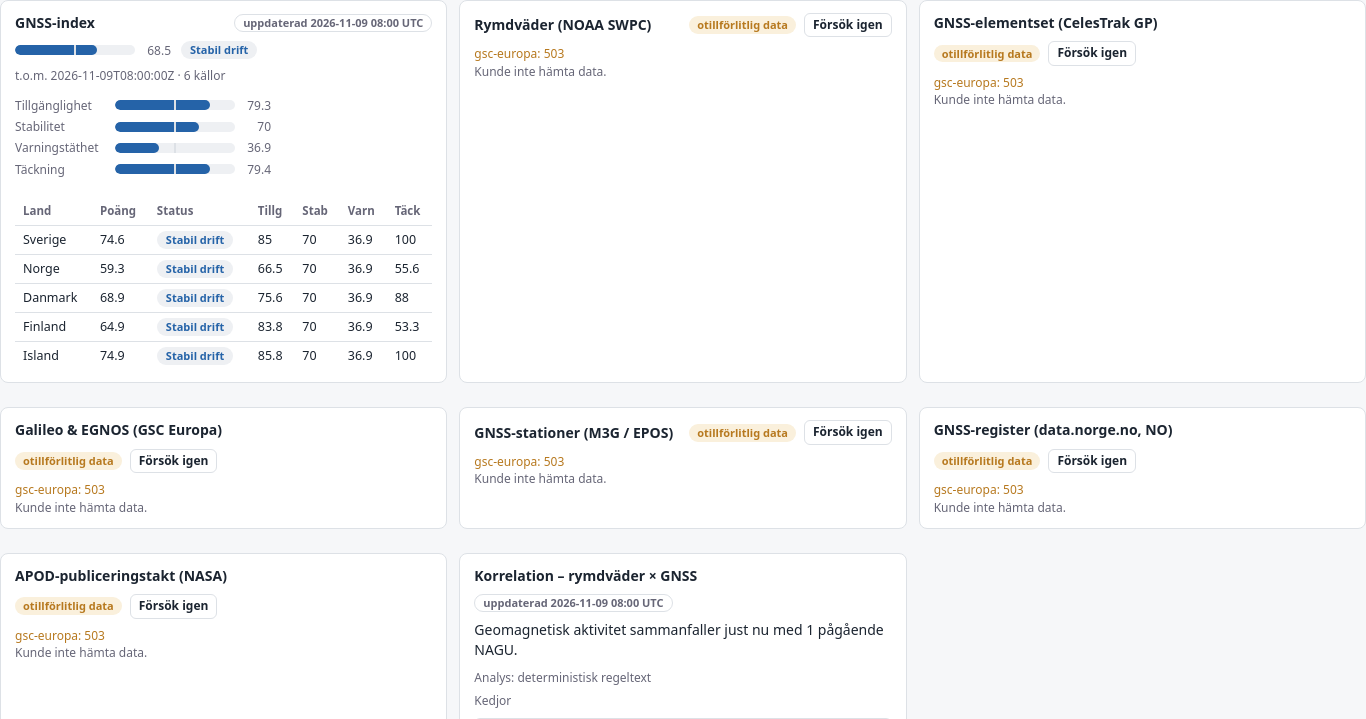
Test: GnssView › ofoglig country → NORDIC; datafel → fel i sex recordpaneler, retry hämtar igen
Expected: the text "gsc-europa: 503" is shown 6 times, 474,45 -> 564,62; 934,74 -> 1024,91; 15,481 -> 105,498; 474,453 -> 564,470; 934,481 -> 1024,498; 15,627 -> 105,644
Expected: the text "Kunde inte hämta data." is shown 6 times, 474,63 -> 606,80; 934,91 -> 1066,108; 15,499 -> 147,516; 474,470 -> 606,487; 934,499 -> 1066,516; 15,644 -> 147,661
Click the button "Försök igen" in the row of "Rymdväder (NOAA SWPC)" at x=848, y=25, box 804,13 -> 892,37
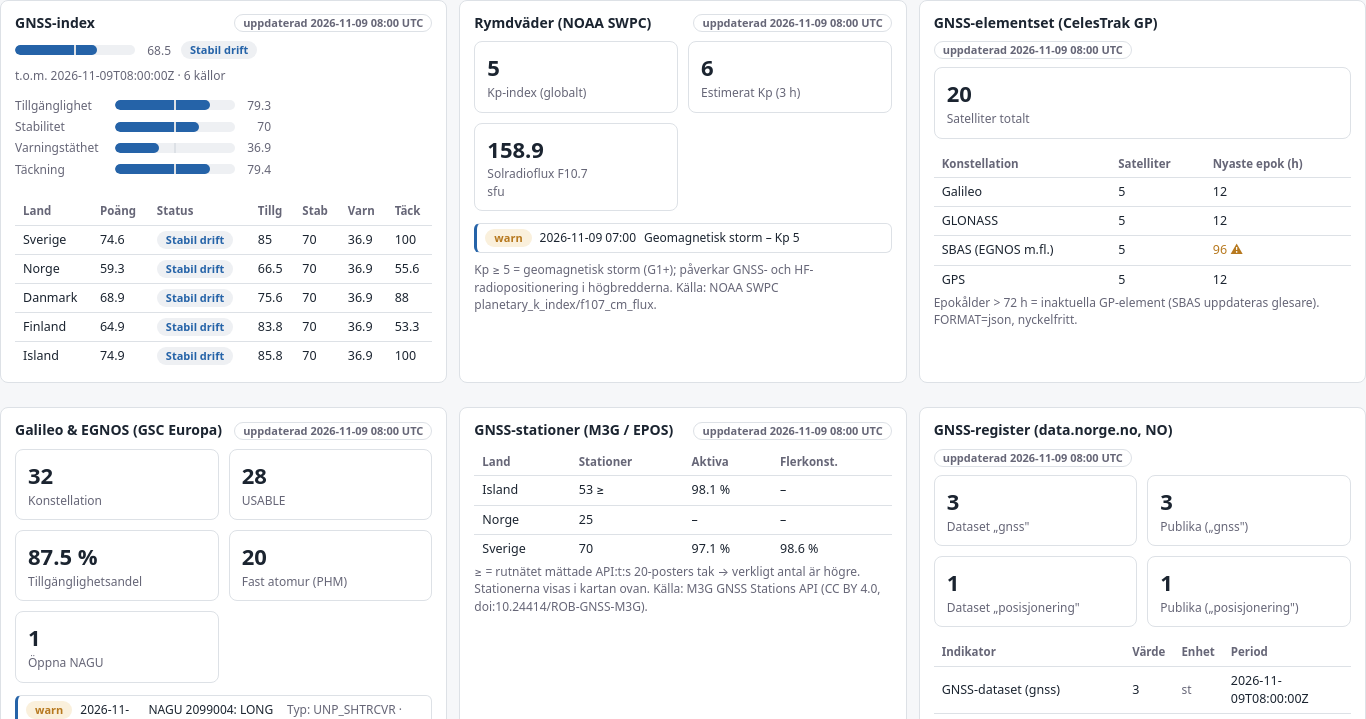
Expected: the text "Solradioflux F10.7" is shown, 487,166 -> 588,182
Expected: the text "gsc-europa: 503" is gone
